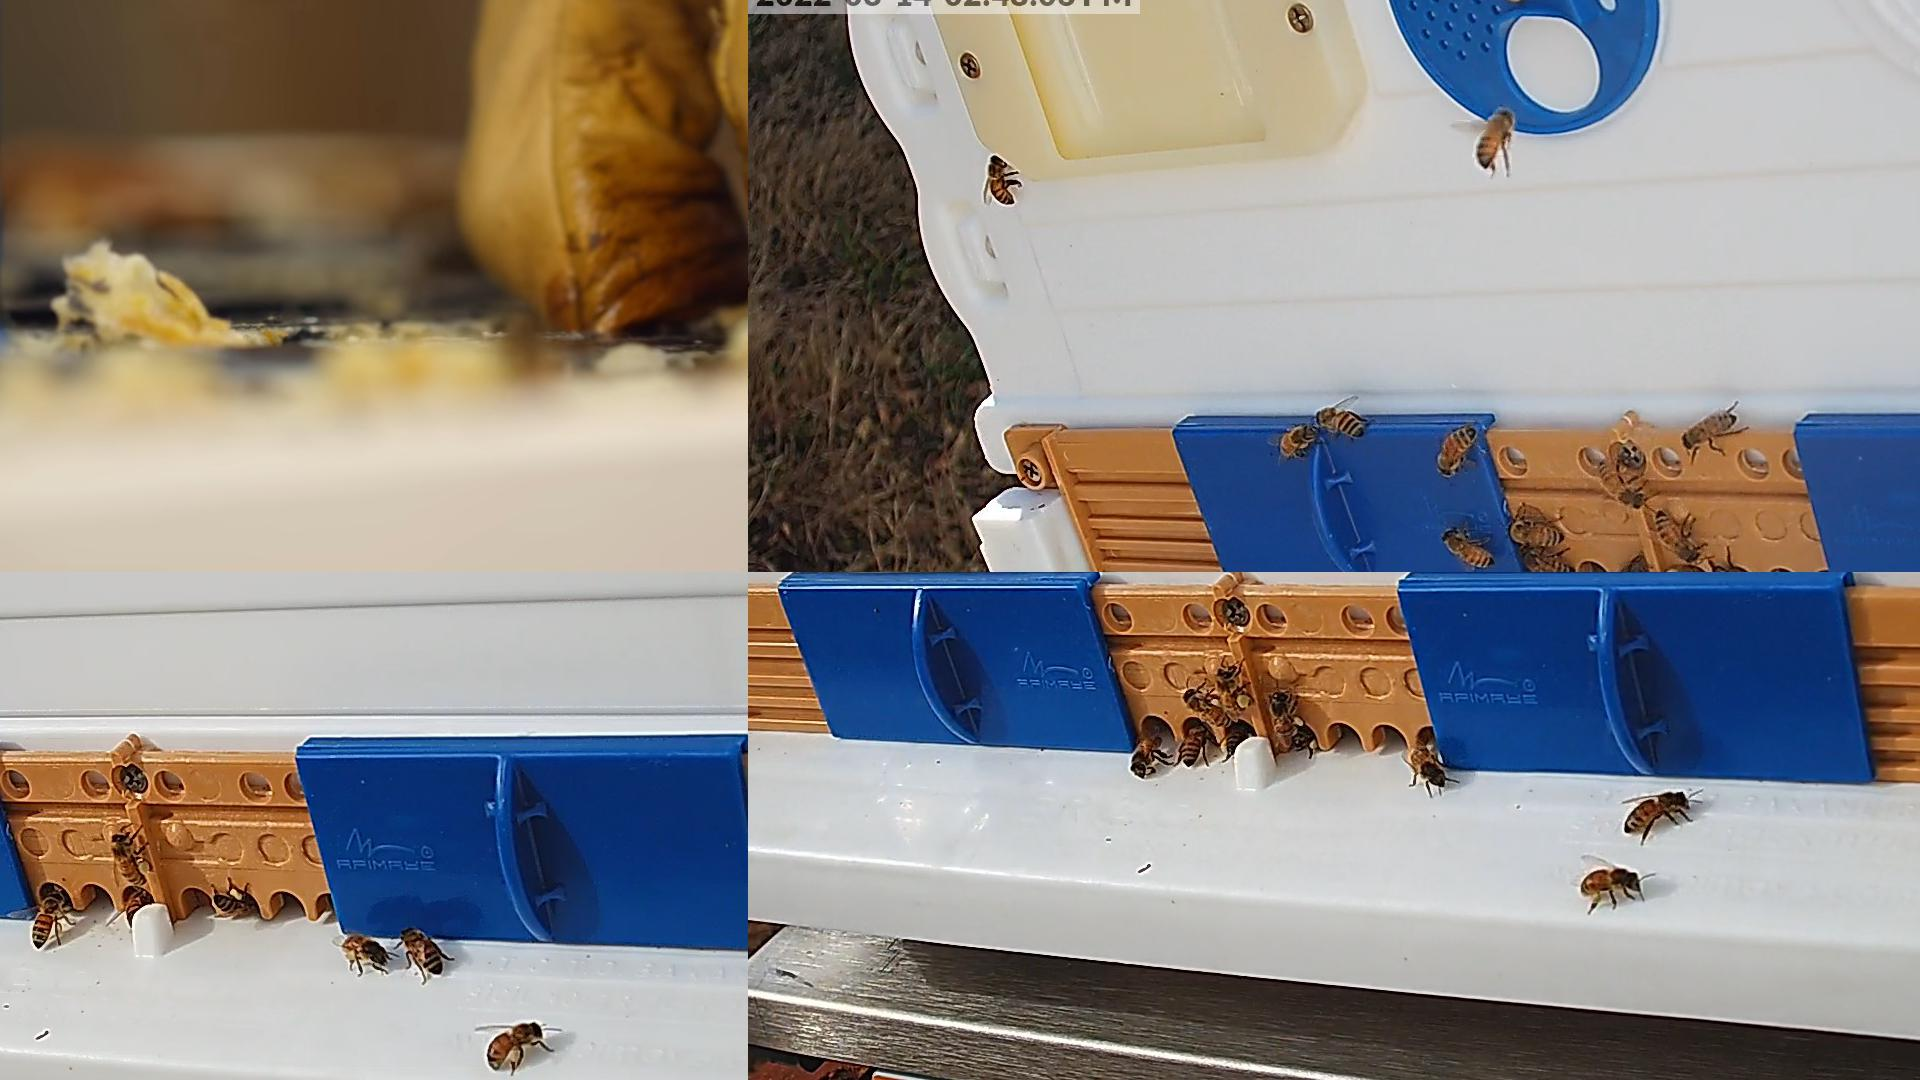bee: (1621, 793, 1689, 836), (1654, 509, 1701, 559), (1597, 460, 1646, 506), (32, 890, 70, 948), (1437, 423, 1480, 475), (401, 924, 442, 975), (1444, 529, 1493, 570), (1478, 107, 1511, 166), (1582, 868, 1638, 901), (1684, 413, 1737, 447), (111, 835, 148, 884), (342, 932, 389, 967), (1507, 518, 1564, 546), (984, 153, 1013, 206), (1316, 406, 1362, 439), (1520, 545, 1577, 571), (1411, 745, 1445, 787), (1279, 422, 1319, 455), (1131, 737, 1160, 777), (1179, 727, 1205, 766), (125, 889, 150, 919), (1613, 556, 1643, 571), (1713, 562, 1756, 571)
pollenbee: (487, 1022, 542, 1069), (1217, 666, 1254, 715), (1269, 691, 1302, 742), (1187, 690, 1230, 728), (211, 889, 257, 916), (1221, 723, 1250, 756), (1295, 727, 1319, 749), (1660, 563, 1712, 571)
